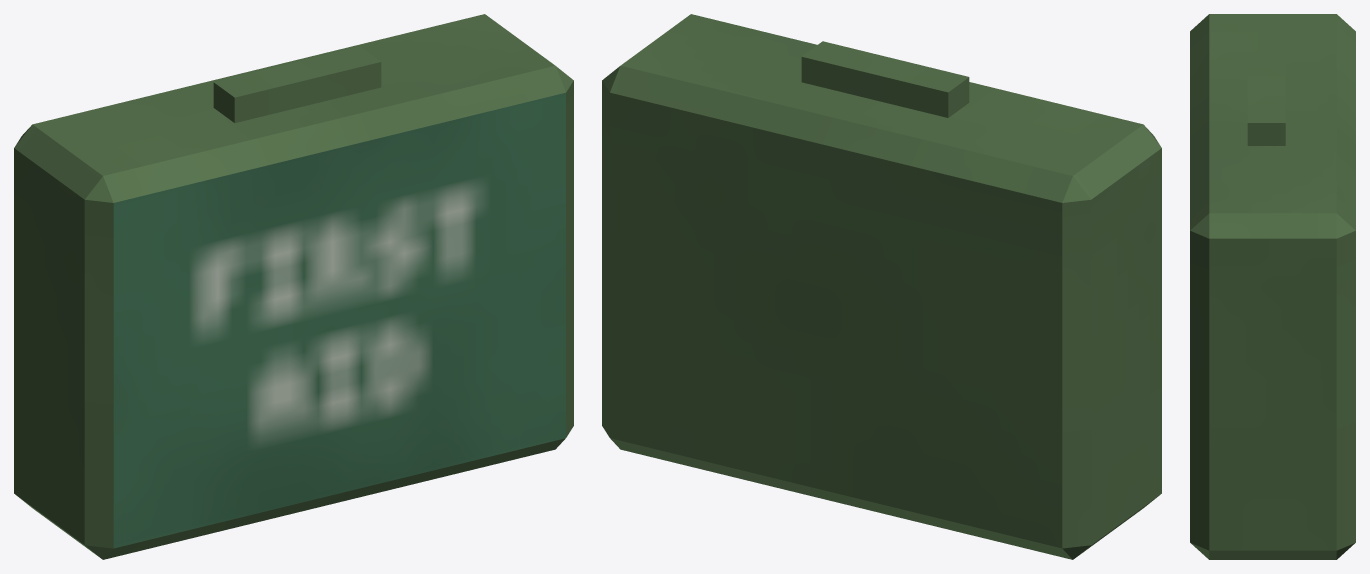
The model's file is first_aid_prison.fbx.
3 views of the same model, side by side, from view 1: azimuth 30°, elevation 25°; view 2: azimuth 150°, elevation 25°; view 3: azimuth 270°, elevation 25° (orthographic). The views are drawn at different scales.
Parts seen in each view (by area): view 1: first_aid_prison; view 2: first_aid_prison; view 3: first_aid_prison.
Boxes of the visible parts, x1,y1,x2,y2 form: first_aid_prison: (14,14,573,559); first_aid_prison: (602,14,1161,559); first_aid_prison: (1190,14,1355,559).
Bounding box in the file's own units: 0.4 × 0.32 × 0.13.
1 material, 1 textured.
